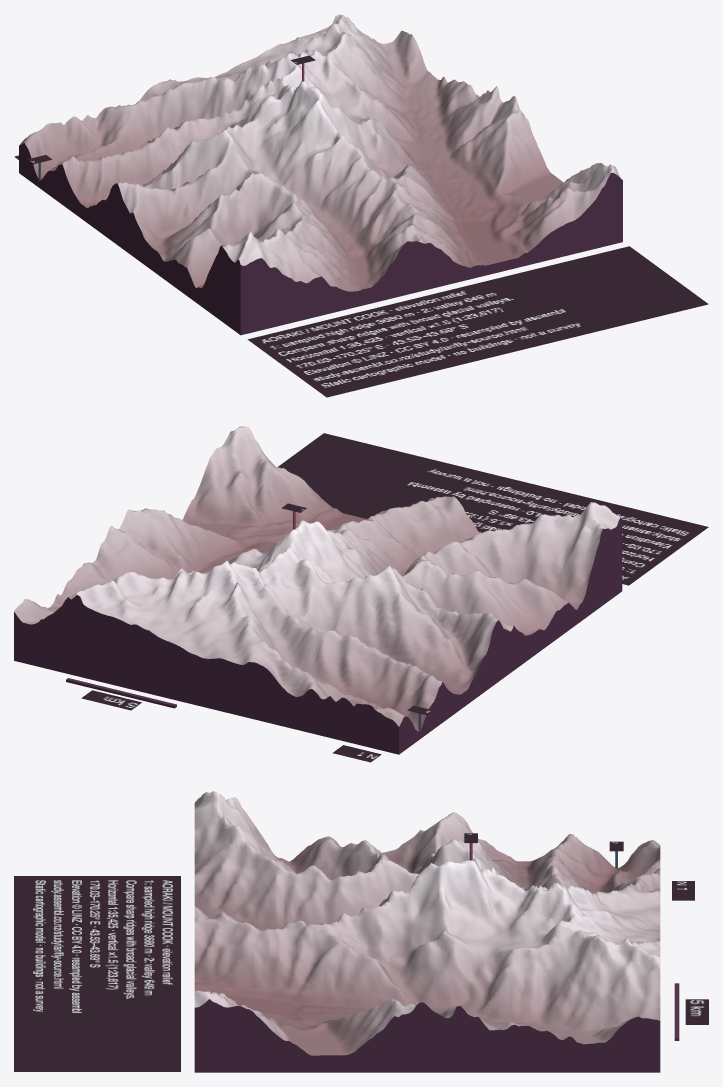
The model's file is fly.glb.
The picture shows the model from 3 angles, top to bottom: view 1: azimuth 30°, elevation 25°; view 2: azimuth 150°, elevation 25°; view 3: azimuth 270°, elevation 25°; orthographic projection. The views are drawn at different scales.
Parts seen in each view (by area): view 1: LINZ_Aoraki_bounded_elevation, Interpretation_scale_and_attribution, fly_authored_teaching_model; view 2: LINZ_Aoraki_bounded_elevation, fly_authored_teaching_model, Interpretation_scale_and_attribution, Distance_scale; view 3: LINZ_Aoraki_bounded_elevation, Interpretation_scale_and_attribution, fly_authored_teaching_model, Distance_scale, North.
Part boxes in pixels (x1,y1,x2,y2): LINZ_Aoraki_bounded_elevation: (19, 14, 620, 291); Interpretation_scale_and_attribution: (247, 246, 708, 397); fly_authored_teaching_model: (19, 63, 622, 335); LINZ_Aoraki_bounded_elevation: (14, 426, 620, 731); fly_authored_teaching_model: (14, 511, 622, 754); Interpretation_scale_and_attribution: (278, 433, 708, 585); Distance_scale: (81, 690, 141, 710); LINZ_Aoraki_bounded_elevation: (194, 791, 660, 1055); Interpretation_scale_and_attribution: (14, 876, 180, 1071); fly_authored_teaching_model: (194, 843, 679, 1072); Distance_scale: (685, 999, 708, 1024); North: (672, 881, 694, 900).
Bounding box in the file's own units: 0.5125 × 0.1644 × 0.7497.
9 materials, 5 textured.
